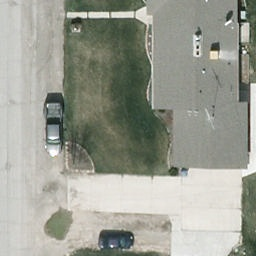car: (98, 236, 135, 252)
pickup: (45, 104, 63, 159)
